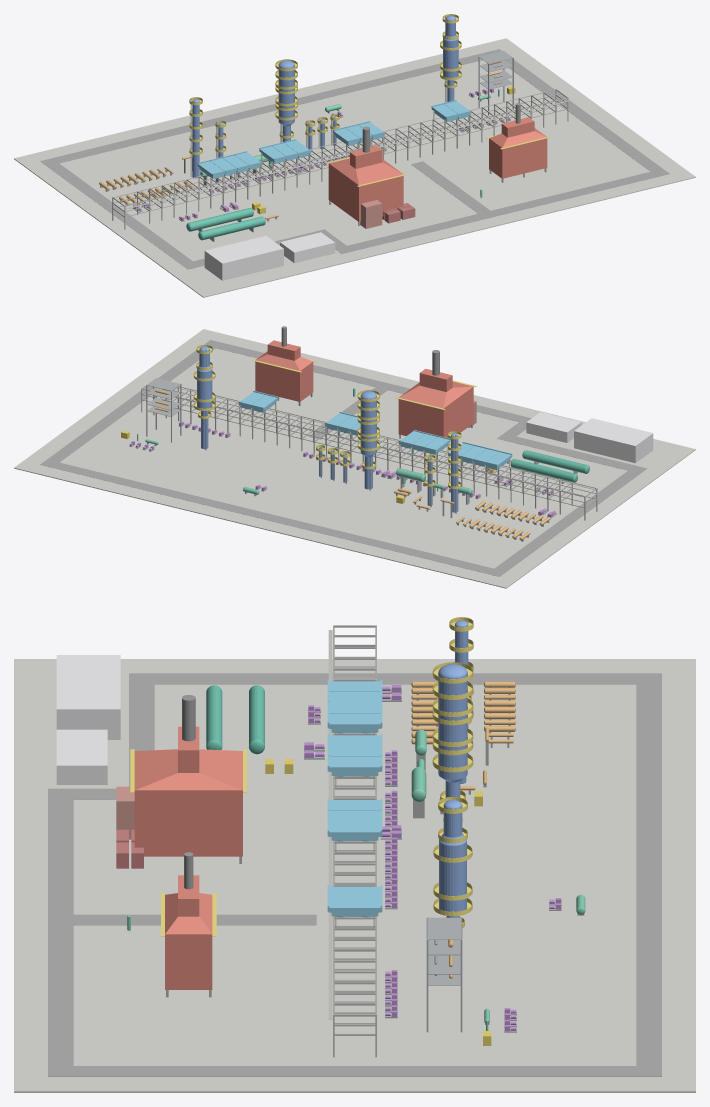
File: CFU-000-PL-3DM-001.glb
3 renders of one model, top to bottom at view 1: azimuth 30°, elevation 25°; view 2: azimuth 150°, elevation 25°; view 3: azimuth 270°, elevation 25°, orthographic. The views are drawn at different scales.
Parts seen in each view (by area): view 1: ground, PR-100, H-101, RD-N, H-201, SS-100, RD-S, RD-E, RD-W, FAR-100, ST-201, C-101 (+8 smaller); view 2: ground, PR-100, H-101, RD-N, H-201, SS-100, RD-W, RD-E, RD-S, FAR-100, ST-201, C-101 (+7 smaller); view 3: ground, H-101, RD-N, PR-100, RD-S, RD-E, RD-W, SS-100, H-201, FAR-100, C-101, ST-201 (+13 smaller).
Part boxes in pixels (x1=…): ground: x1=14, y1=38, x2=695, y2=297; PR-100: x1=112, y1=89, x2=569, y2=229; H-101: x1=328, y1=145, x2=403, y2=221; RD-N: x1=41, y1=49, x2=501, y2=163; H-201: x1=489, y1=117, x2=547, y2=178; SS-100: x1=204, y1=236, x2=283, y2=280; RD-S: x1=335, y1=171, x2=669, y2=253; RD-E: x1=487, y1=49, x2=669, y2=176; RD-W: x1=40, y1=158, x2=199, y2=269; FAR-100: x1=280, y1=232, x2=335, y2=263; ST-201: x1=478, y1=50, x2=513, y2=115; C-101: x1=278, y1=60, x2=294, y2=141; ground: x1=14, y1=329, x2=695, y2=588; PR-100: x1=141, y1=379, x2=597, y2=520; H-101: x1=398, y1=368, x2=473, y2=439; RD-N: x1=40, y1=459, x2=505, y2=576; H-201: x1=255, y1=340, x2=313, y2=401; SS-100: x1=574, y1=418, x2=653, y2=463; RD-W: x1=487, y1=470, x2=643, y2=576; RD-E: x1=41, y1=340, x2=222, y2=463; RD-S: x1=209, y1=340, x2=531, y2=423; FAR-100: x1=526, y1=412, x2=581, y2=442; ST-201: x1=146, y1=378, x2=181, y2=442; C-101: x1=360, y1=391, x2=376, y2=489; ground: x1=14, y1=659, x2=695, y2=1092; H-101: x1=134, y1=726, x2=242, y2=856; RD-N: x1=636, y1=673, x2=661, y2=1076; PR-100: x1=328, y1=625, x2=376, y2=1057; RD-S: x1=48, y1=788, x2=73, y2=1076; RD-E: x1=48, y1=1066, x2=661, y2=1076; RD-W: x1=129, y1=673, x2=661, y2=684; SS-100: x1=56, y1=655, x2=120, y2=739; H-201: x1=165, y1=875, x2=212, y2=989; FAR-100: x1=56, y1=729, x2=107, y2=784; C-101: x1=438, y1=664, x2=467, y2=797; ST-201: x1=426, y1=917, x2=462, y2=1032.
Size of the model in its own units: 240 by 47.5 by 160.
